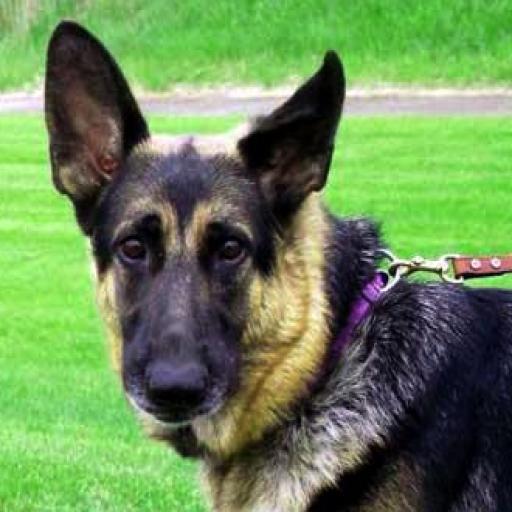dog_face: (43, 24, 339, 411)
